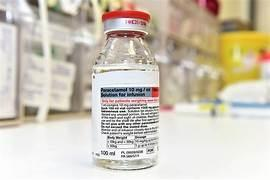Iv_Bottle: (92, 11, 158, 169)
